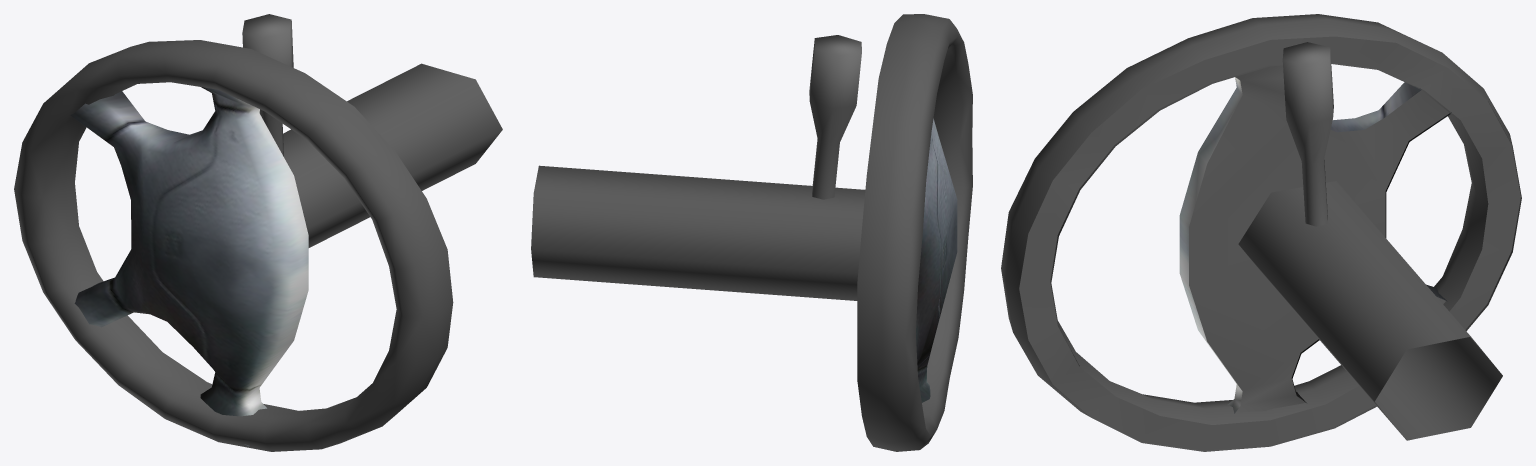
Rendered from SteeringWheel.obj.
3 views of the same model, side by side, from view 1: azimuth 30°, elevation 25°; view 2: azimuth 150°, elevation 25°; view 3: azimuth 270°, elevation 25° (orthographic). The views are drawn at different scales.
Visible parts, largest first — view 1: SteeringWheel; view 2: SteeringWheel; view 3: SteeringWheel.
Boxes of the visible parts, x1,y1,x2,y2 form: SteeringWheel: (14, 14, 502, 451); SteeringWheel: (531, 14, 972, 451); SteeringWheel: (1001, 14, 1521, 451).
Bounding box in the file's own units: 0.4764 × 0.4103 × 0.4655.
Materials: 3 (1 with a texture image).
